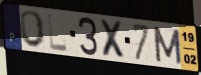3: (76, 15, 99, 57)
7: (132, 23, 151, 62)
L: (46, 12, 70, 53)
M: (152, 25, 184, 67)
O: (19, 10, 47, 50)
X: (98, 18, 128, 61)
